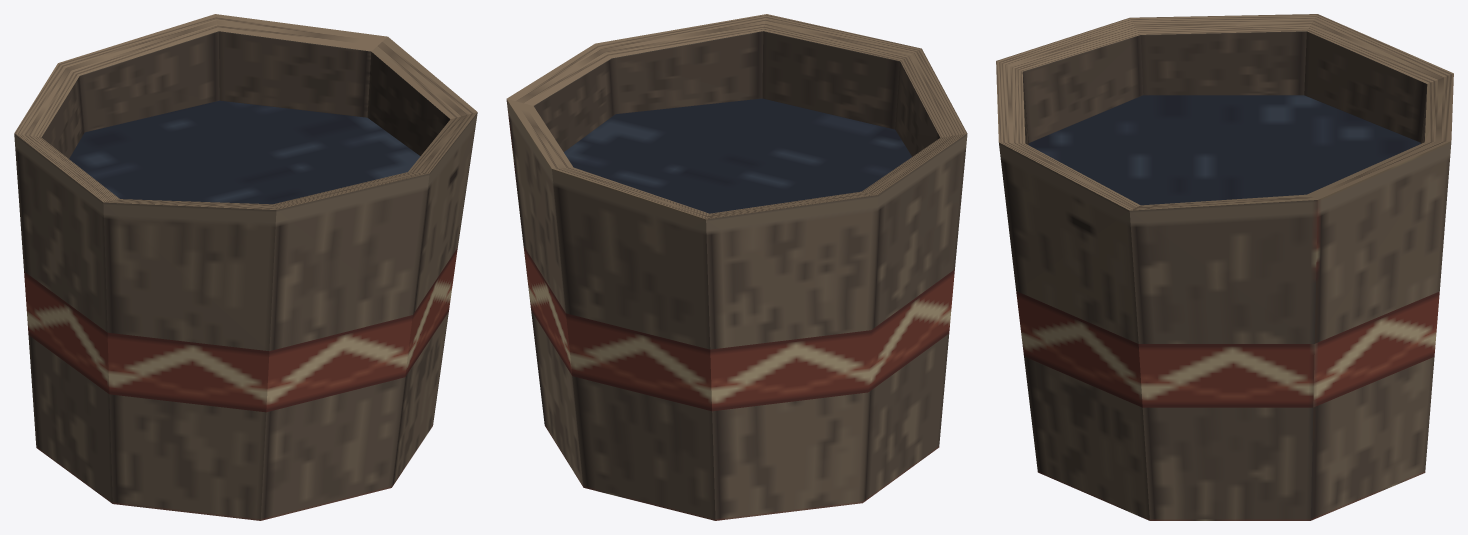
File: SM_CV_WashTub.fbx
The picture shows the model from 3 angles, left to right: view 1: azimuth 30°, elevation 25°; view 2: azimuth 150°, elevation 25°; view 3: azimuth 270°, elevation 25°; orthographic projection. The views are drawn at different scales.
Parts seen in each view (by area): view 1: CV_WashTub_Body, CV_WashTub_Water; view 2: CV_WashTub_Body, CV_WashTub_Water; view 3: CV_WashTub_Body, CV_WashTub_Water.
Boxes of the visible parts, x1,y1,x2,y2 form: CV_WashTub_Body: [14, 14, 477, 520]; CV_WashTub_Water: [69, 100, 420, 204]; CV_WashTub_Body: [506, 14, 967, 520]; CV_WashTub_Water: [564, 98, 911, 213]; CV_WashTub_Body: [996, 14, 1453, 520]; CV_WashTub_Water: [1028, 95, 1420, 205].
Size of the model in its own units: 0.5508 by 0.4574 by 0.5549.
